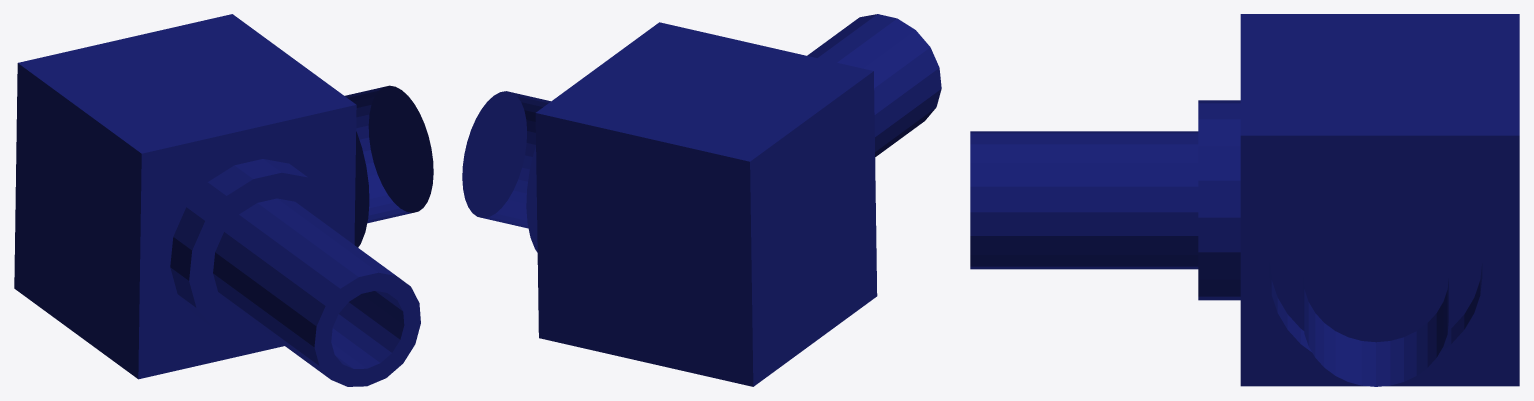
File: assembly_regulator_part_blue.dae
3 views of the same model, side by side, from view 1: azimuth 30°, elevation 25°; view 2: azimuth 150°, elevation 25°; view 3: azimuth 270°, elevation 25° (orthographic). The views are drawn at different scales.
Parts seen in each view (by area): view 1: Out_Regulator; view 2: Out_Regulator; view 3: Out_Regulator.
Boxes of the visible parts, x1,y1,x2,y2 form: Out_Regulator: (14,14,433,386); Out_Regulator: (462,14,941,386); Out_Regulator: (970,14,1519,386).
Bounding box in the file's own units: 0.1015 × 0.1327 × 0.0684.
